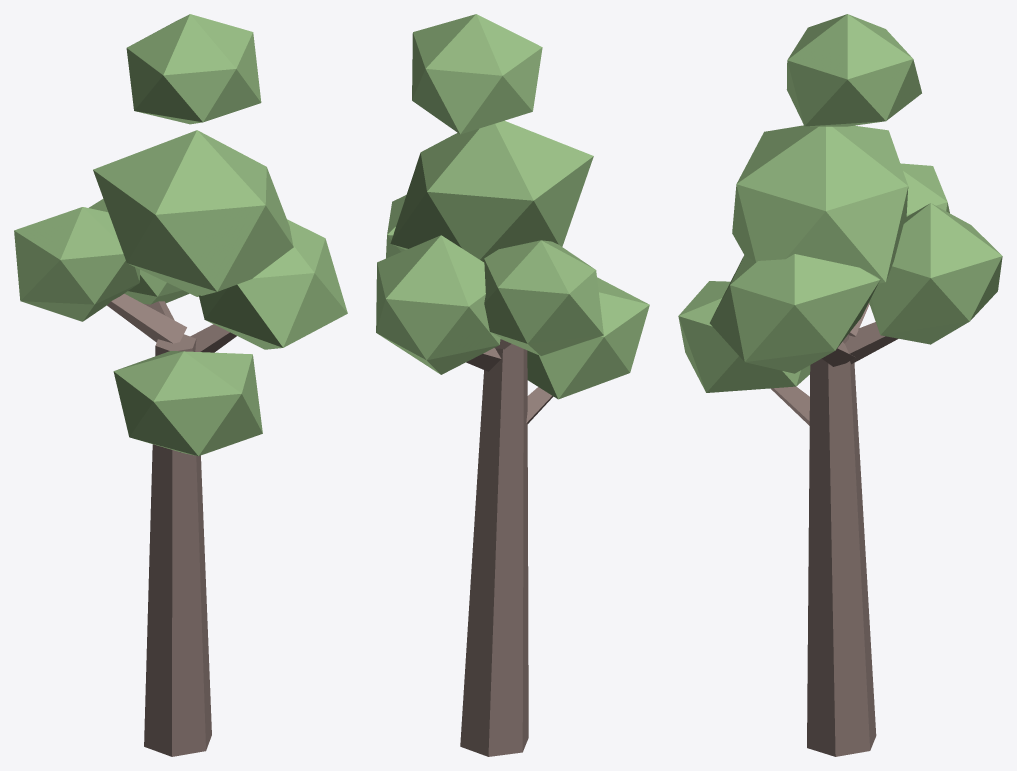
Rendered from arv_carvalho_6_sem_textura.glb.
3 views of the same model, side by side, from view 1: azimuth 30°, elevation 25°; view 2: azimuth 150°, elevation 25°; view 3: azimuth 270°, elevation 25° (orthographic).
Visible parts, largest first — view 1: arv_carvalho_6; view 2: arv_carvalho_6; view 3: arv_carvalho_6.
Part boxes in pixels (box(x1,y1,x2,y2)): arv_carvalho_6: box(14, 14, 347, 756); arv_carvalho_6: box(376, 14, 649, 756); arv_carvalho_6: box(678, 14, 1002, 756).
Size of the model in its own units: 0.8194 by 2.19 by 0.8754.
